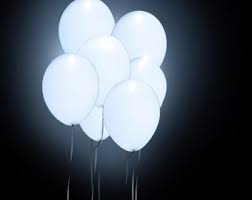Balloon: (41, 53, 99, 125), (106, 80, 162, 152), (58, 1, 114, 53)
